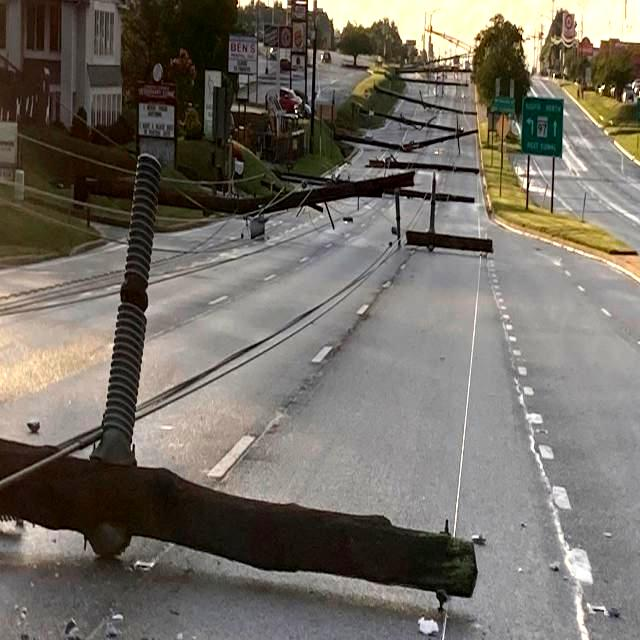Broken Pole: (0, 138, 478, 617), (68, 168, 418, 243), (401, 168, 500, 260), (340, 123, 483, 160)
